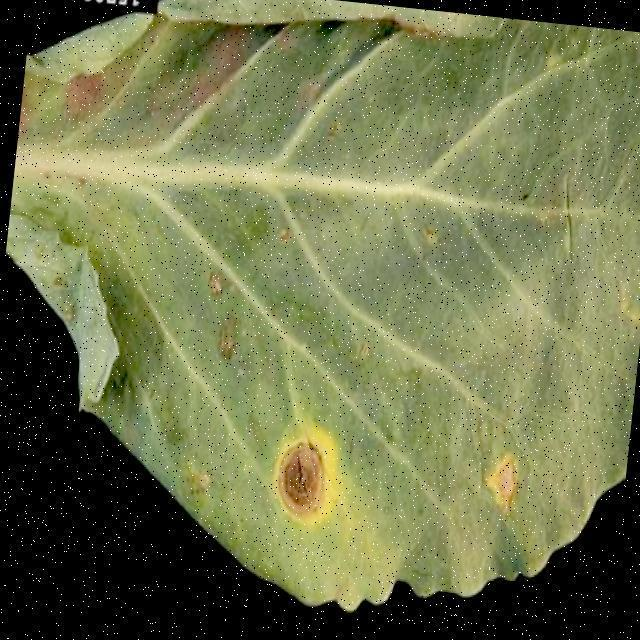Bacterial: (258, 402, 362, 543), (463, 425, 535, 532)
